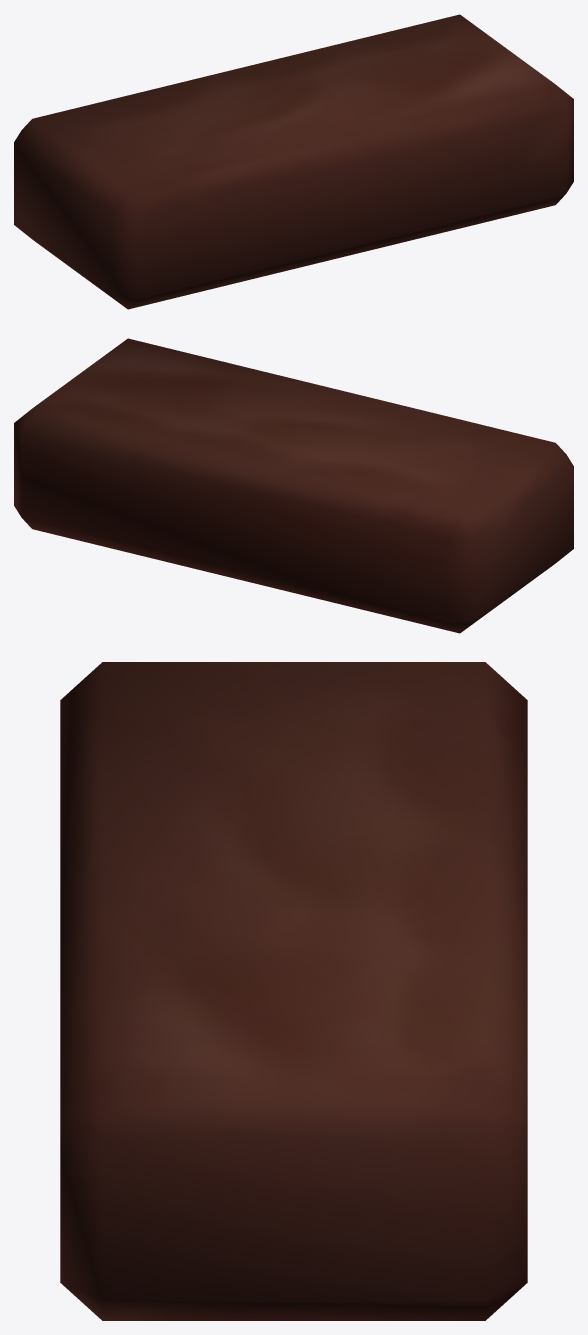
Rendered from chocolateBar.glb.
The picture shows the model from 3 angles, top to bottom: view 1: azimuth 30°, elevation 25°; view 2: azimuth 150°, elevation 25°; view 3: azimuth 270°, elevation 25°; orthographic projection. The views are drawn at different scales.
Parts seen in each view (by area): view 1: geometry_0; view 2: geometry_0; view 3: geometry_0.
Boxes of the visible parts, x1=… form: geometry_0: x1=14, y1=14, x2=573, y2=309; geometry_0: x1=14, y1=338, x2=573, y2=633; geometry_0: x1=60, y1=662, x2=527, y2=1320.
Bounding box in the file's own units: 0.1835 × 0.0455 × 0.0799.
1 material, 1 textured.
